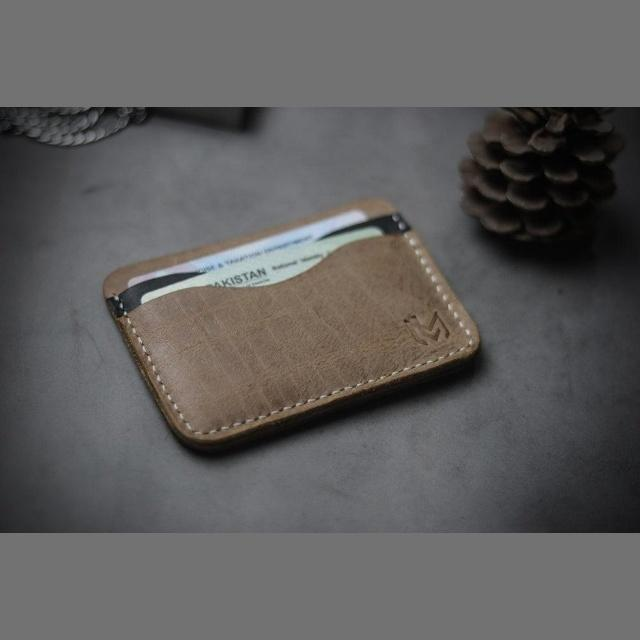Wallet: (70, 185, 508, 457)
